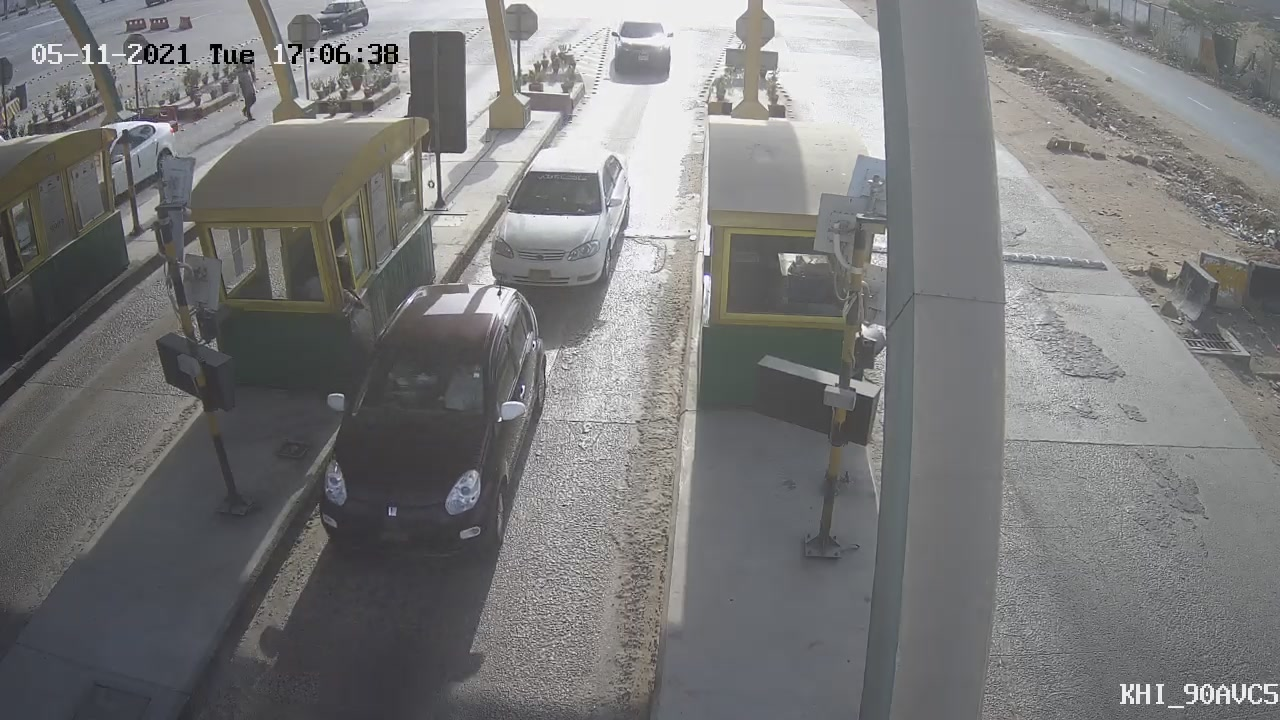F1: (292, 261, 568, 582), (476, 129, 650, 312)
